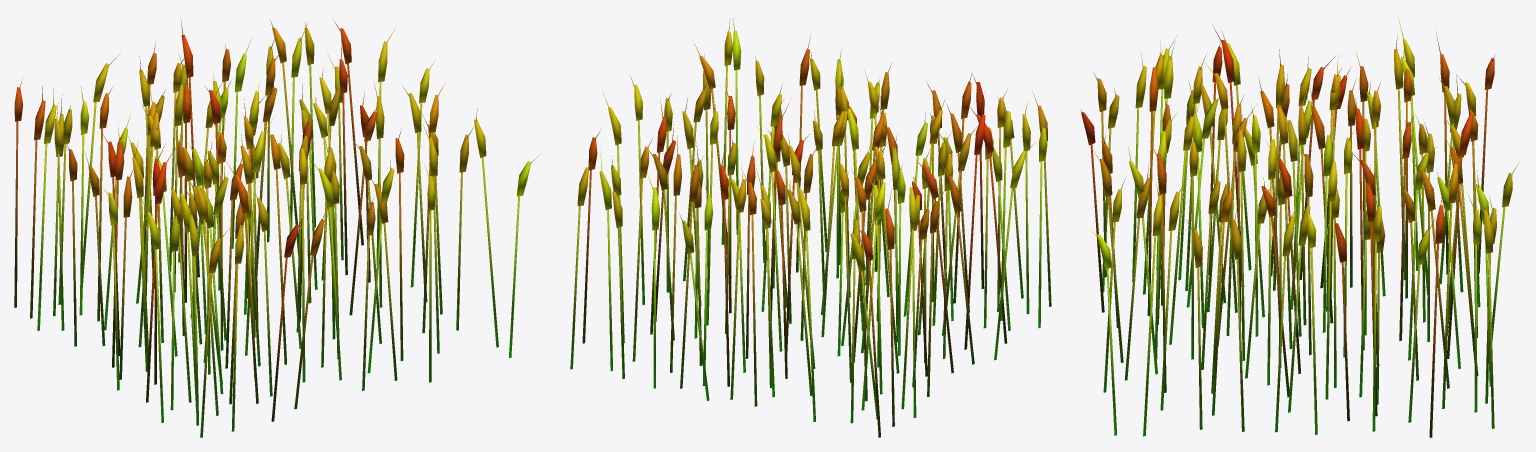
Rendered from HOB_WheatPatch_LOD1.fbx.
3 views of the same model, side by side, from view 1: azimuth 30°, elevation 25°; view 2: azimuth 150°, elevation 25°; view 3: azimuth 270°, elevation 25° (orthographic). The views are drawn at different scales.
Visible parts, largest first — view 1: HOB_WheatPatch_LOD1; view 2: HOB_WheatPatch_LOD1; view 3: HOB_WheatPatch_LOD1.
Part boxes in pixels (x1,y1,x2,y2): HOB_WheatPatch_LOD1: [14, 18, 539, 437]; HOB_WheatPatch_LOD1: [570, 14, 1051, 437]; HOB_WheatPatch_LOD1: [1081, 18, 1519, 437].
Size of the model in its own units: 224 by 147 by 220.
